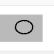no answer: (13, 18, 36, 36)
